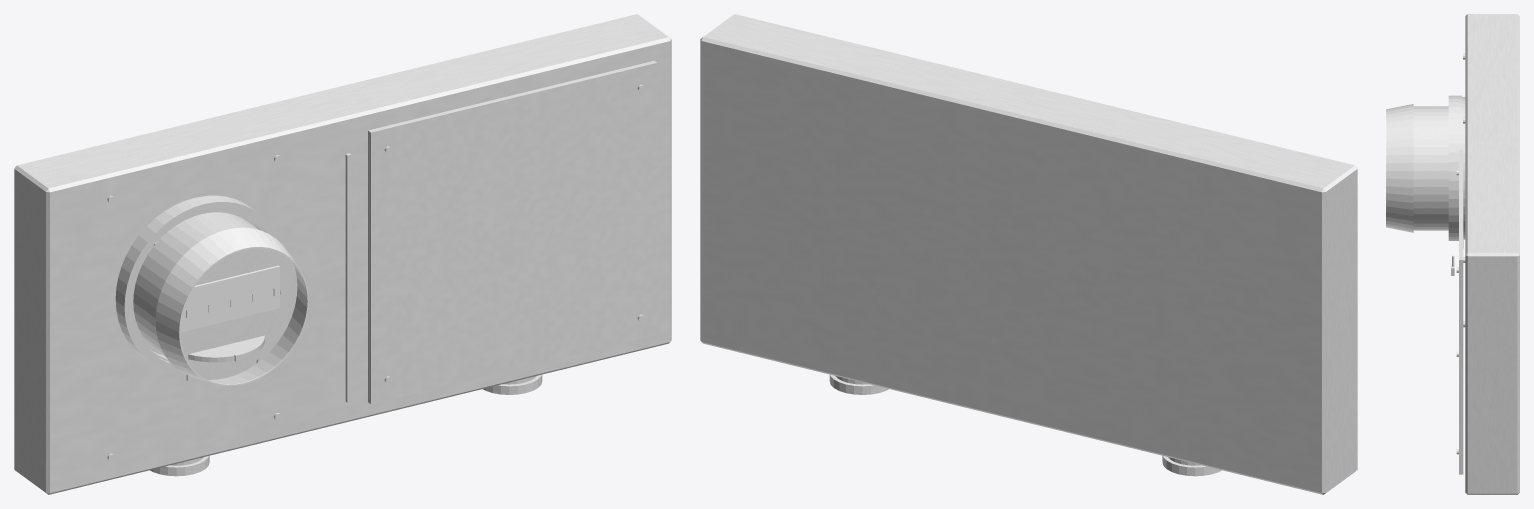
The model's file is wideundergroundmetersocket.obj.
3 views of the same model, side by side, from view 1: azimuth 30°, elevation 25°; view 2: azimuth 150°, elevation 25°; view 3: azimuth 270°, elevation 25° (orthographic). The views are drawn at different scales.
Visible parts, largest first — view 1: Case, GutterCover, MeterFace, Glass, MeterRing, SmartScreen, Socket, Bond, Disk; view 2: Case, Socket; view 3: Case, MeterFace, Glass, MeterRing, GutterCover, Socket.
Boxes of the visible parts, x1,y1,x2,y2 form: Case: (14,14,671,494); GutterCover: (368,60,657,404); MeterFace: (133,212,294,376); Glass: (155,227,308,386); MeterRing: (116,195,279,373); SmartScreen: (180,265,279,332); Socket: (115,198,542,476); Bond: (345,153,351,402); Disk: (188,335,264,362); Case: (700,14,1357,494); Socket: (829,374,1221,476); Case: (1465,14,1519,494); MeterFace: (1413,106,1448,230); Glass: (1386,104,1413,232); MeterRing: (1448,95,1462,240); GutterCover: (1459,149,1463,474); Socket: (1462,97,1465,239).
Bounding box in the file's own units: 1.88 × 0.92 × 0.441.
